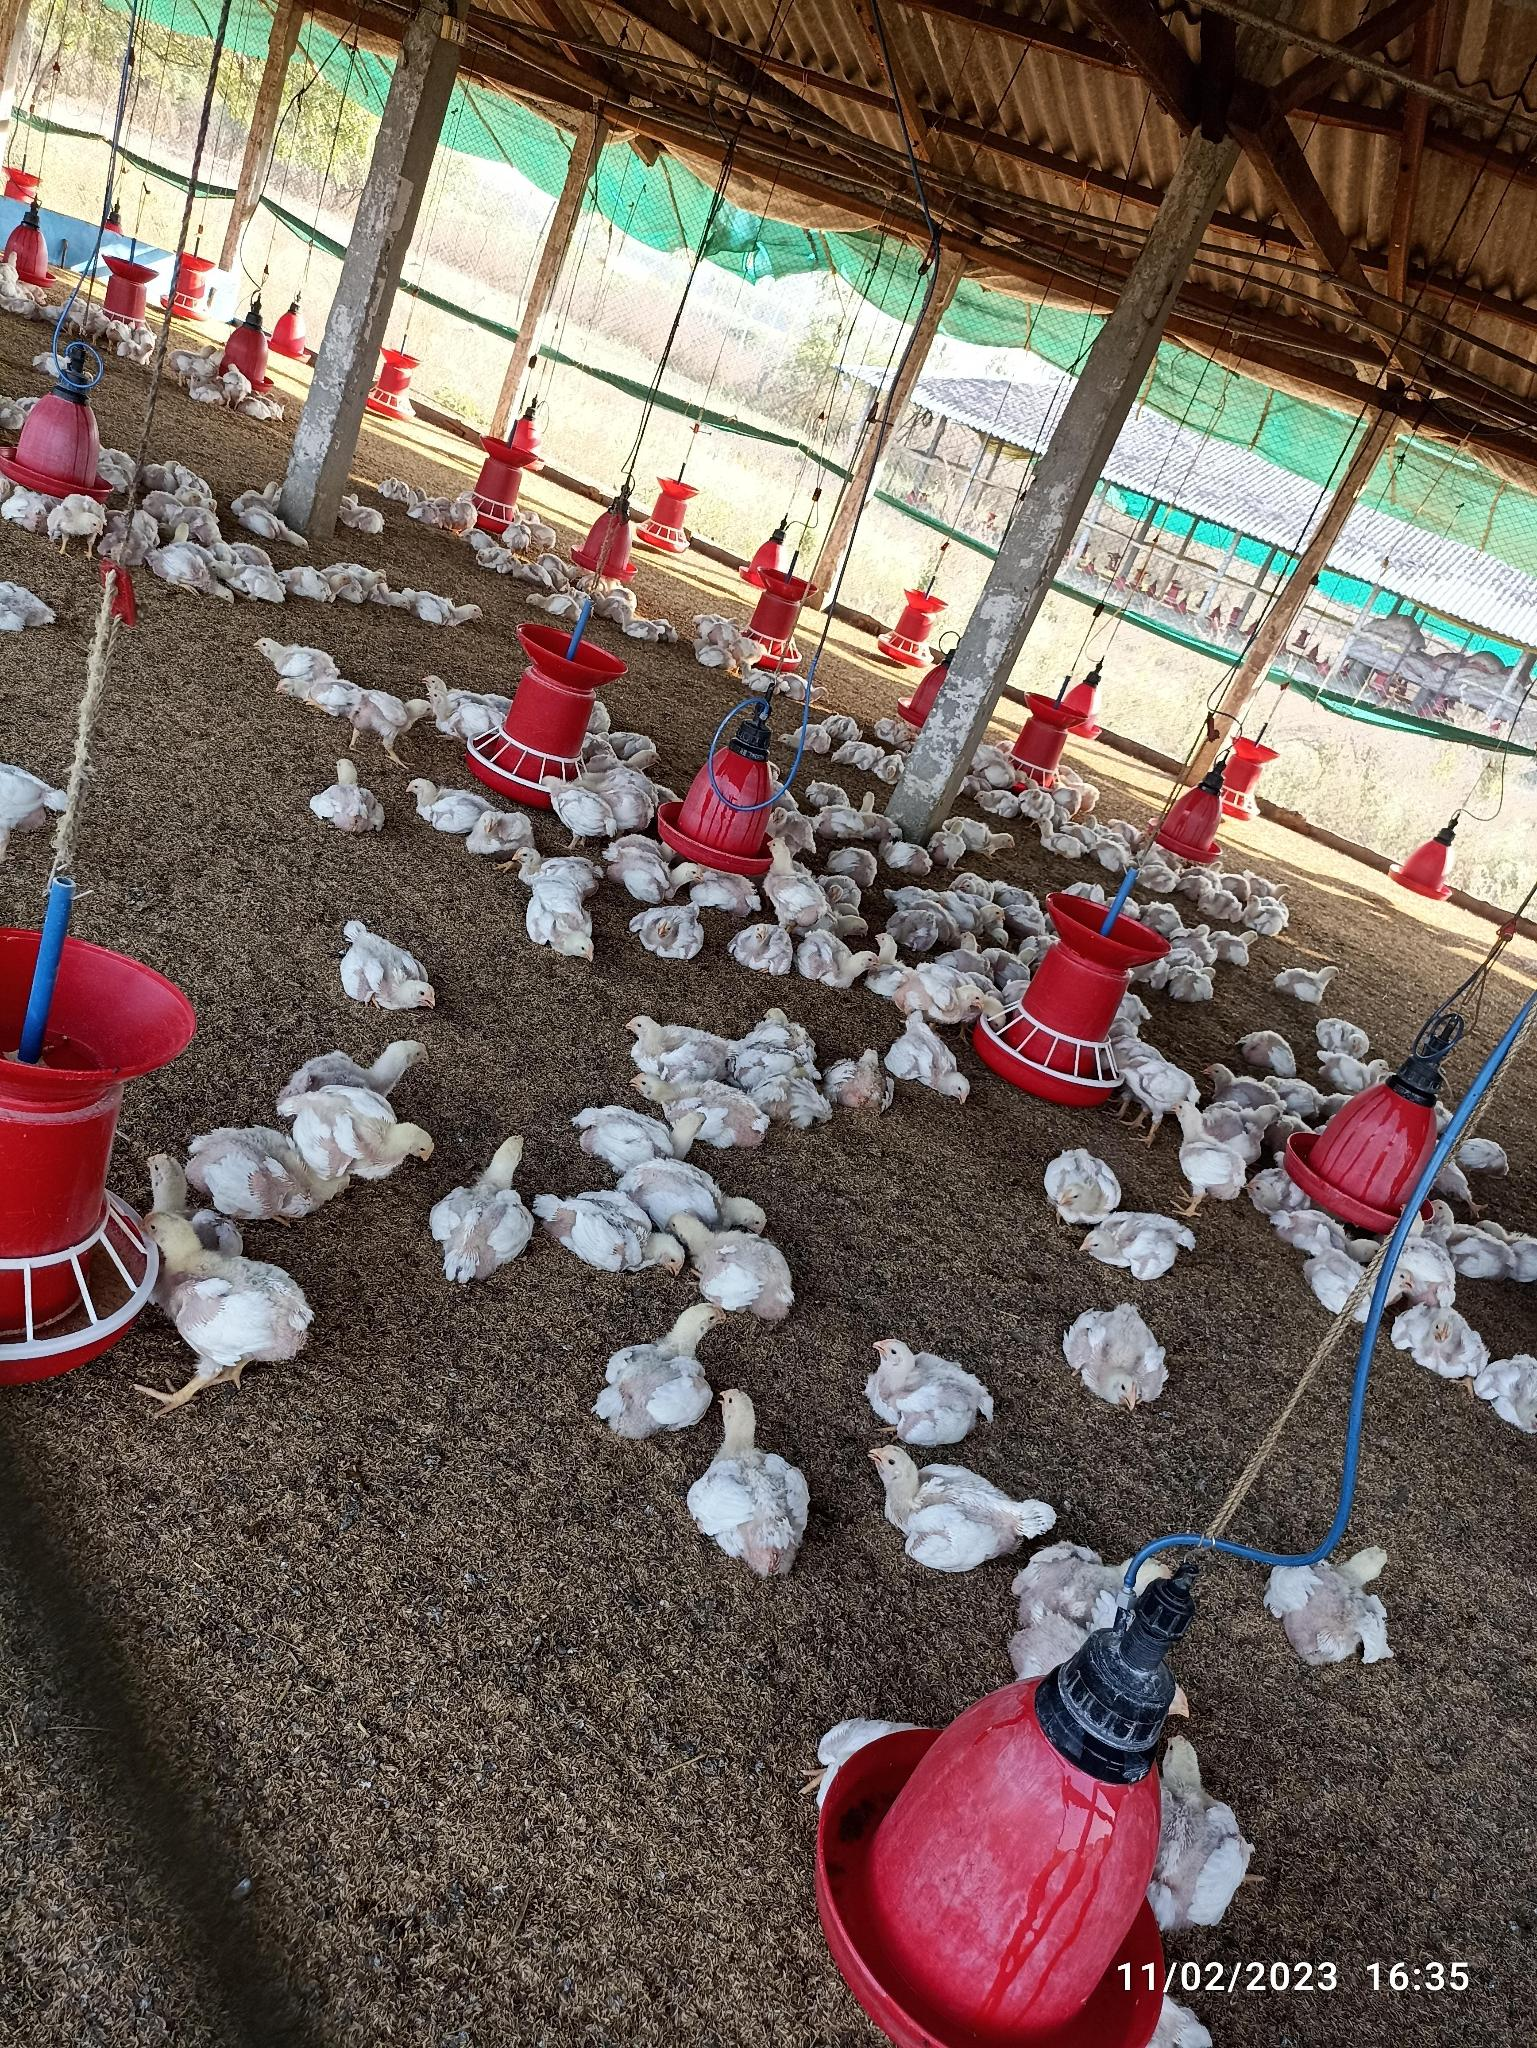Pollos: (862, 1440, 1062, 1567), (144, 1218, 316, 1365), (601, 1293, 741, 1432), (702, 1390, 809, 1561), (191, 1110, 357, 1215), (431, 1125, 541, 1275), (1280, 1548, 1405, 1674), (1053, 1293, 1169, 1415), (662, 1209, 809, 1299), (625, 1072, 765, 1162), (869, 1340, 986, 1436), (1159, 1093, 1271, 1193), (1080, 1206, 1208, 1275), (1392, 1293, 1505, 1370), (337, 918, 433, 1001), (628, 1009, 752, 1072), (899, 1009, 974, 1102), (509, 831, 601, 904), (1037, 1143, 1122, 1215), (523, 884, 597, 965), (307, 757, 379, 833), (539, 775, 625, 838), (1114, 1046, 1201, 1107), (770, 834, 830, 922), (244, 628, 329, 688), (801, 930, 880, 994), (838, 1043, 898, 1115), (349, 699, 444, 741), (399, 775, 491, 817), (643, 894, 699, 960), (731, 909, 789, 972), (617, 859, 710, 896), (399, 591, 491, 625), (1274, 965, 1348, 999), (1250, 1022, 1295, 1072)
